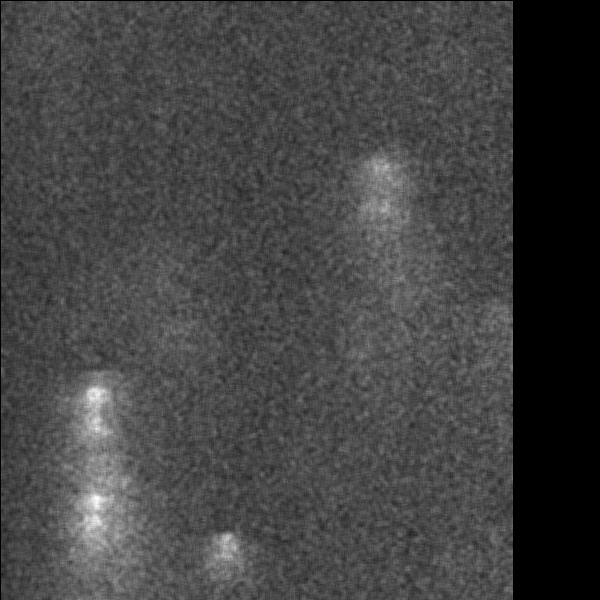spark: (341, 152, 404, 353), (70, 486, 127, 547), (69, 380, 118, 448), (207, 527, 242, 595)
